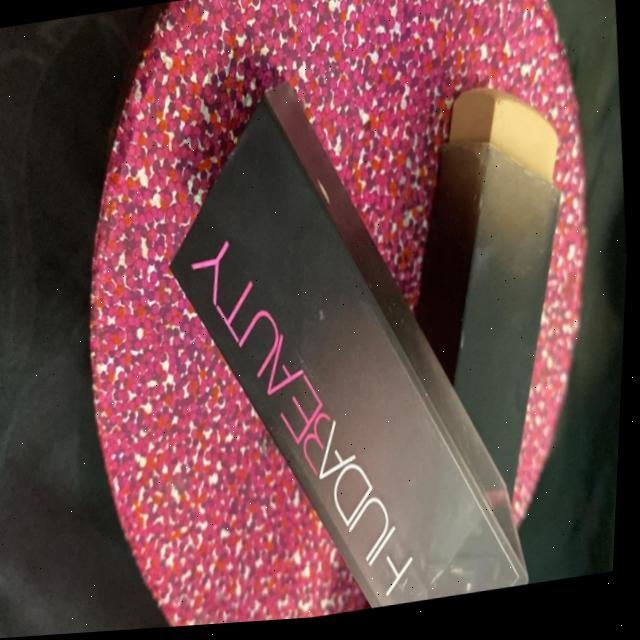concealer: (401, 30, 589, 397)
